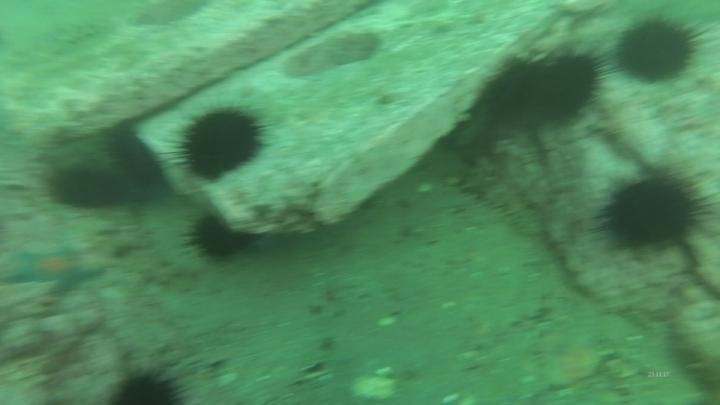echinus: (596, 163, 712, 257), (171, 102, 270, 184), (524, 45, 609, 127), (611, 13, 705, 87), (45, 160, 127, 214), (104, 125, 168, 194), (182, 209, 249, 265), (106, 364, 190, 405)
holothurian: (457, 157, 546, 240)
starfish: (1, 243, 109, 297), (540, 332, 615, 392)
